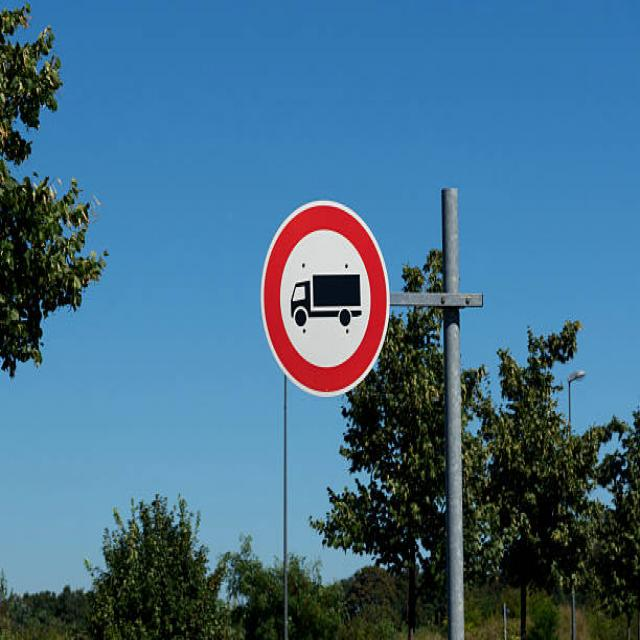do_not_enter: (254, 193, 398, 401)
